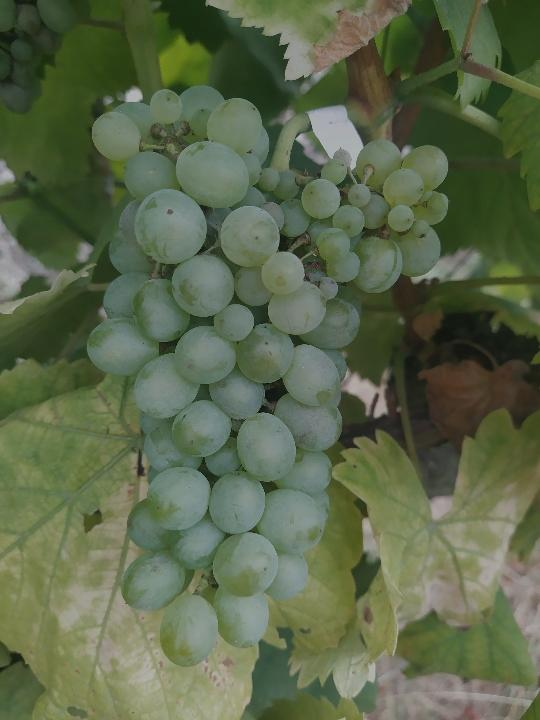grape: (83, 81, 452, 671)
